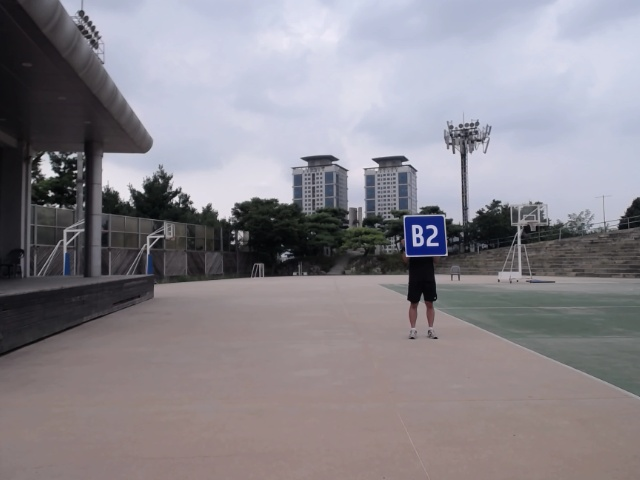delivery_b2: (403, 214, 449, 258)
